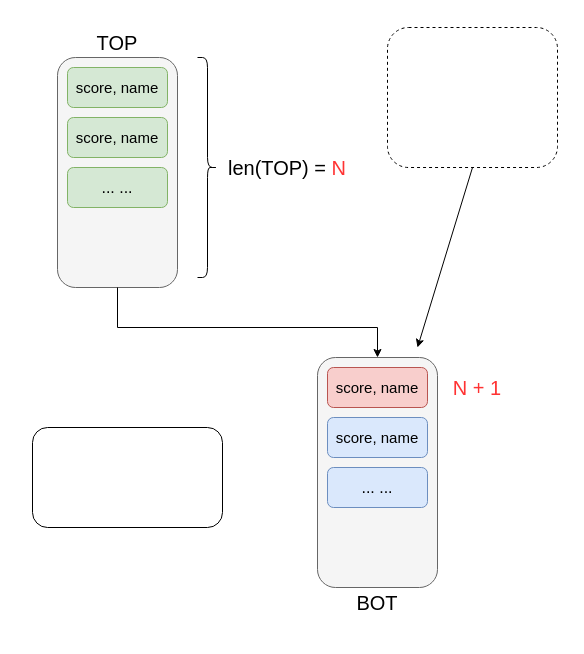
Some shapes in this 584 by 654 pixel diagram are drawn without their labels. The centre of each missing label's shape, as x and y in pixels:
"1. Pop the largest location from BOT" belongs at point (127, 477).
"What is the result of the N+1 th Query ?" belongs at point (472, 97).
